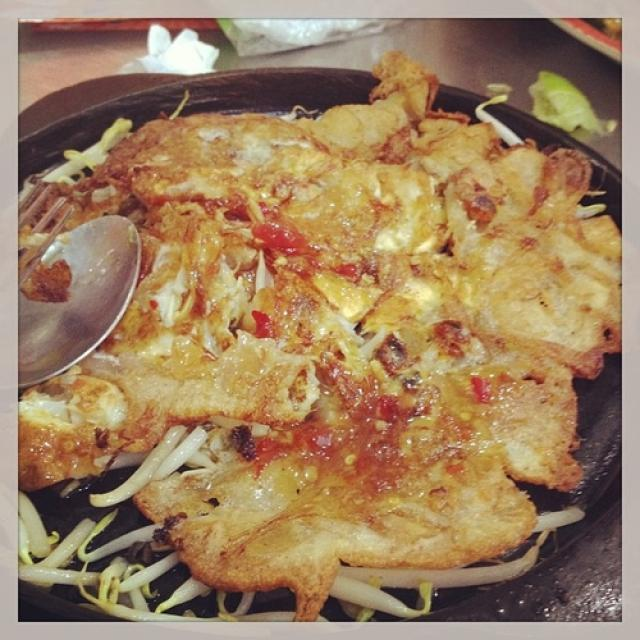炸货点心: (33, 37, 610, 613)
蛋糕甜品: (33, 37, 610, 613)
